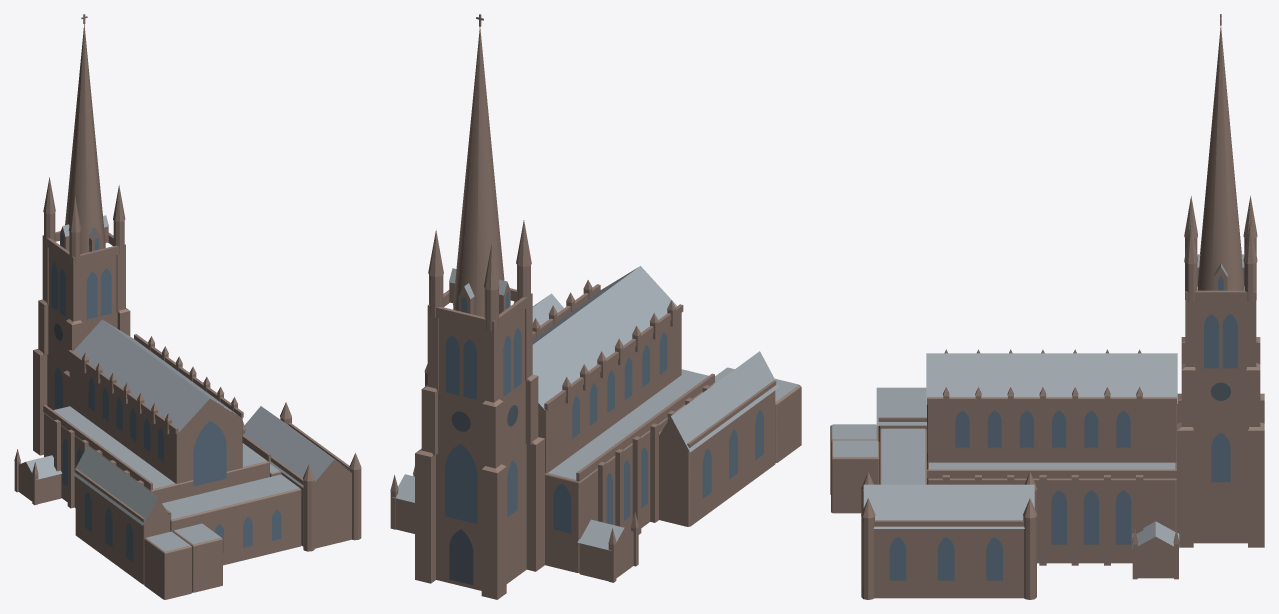
The model's file is nyc-trinity-church.glb.
The picture shows the model from 3 angles, left to right: view 1: azimuth 30°, elevation 25°; view 2: azimuth 150°, elevation 25°; view 3: azimuth 270°, elevation 25°; orthographic projection. The views are drawn at different scales.
Visible parts, largest first — view 1: Trinity Church; view 2: Trinity Church; view 3: Trinity Church.
Boxes of the visible parts, left/top/right/bottom form: Trinity Church: left=14, top=14, right=361, bottom=599; Trinity Church: left=390, top=14, right=801, bottom=599; Trinity Church: left=830, top=14, right=1264, bottom=599.
Bounding box in the file's own units: 44.75 × 88.1 × 67.4.
